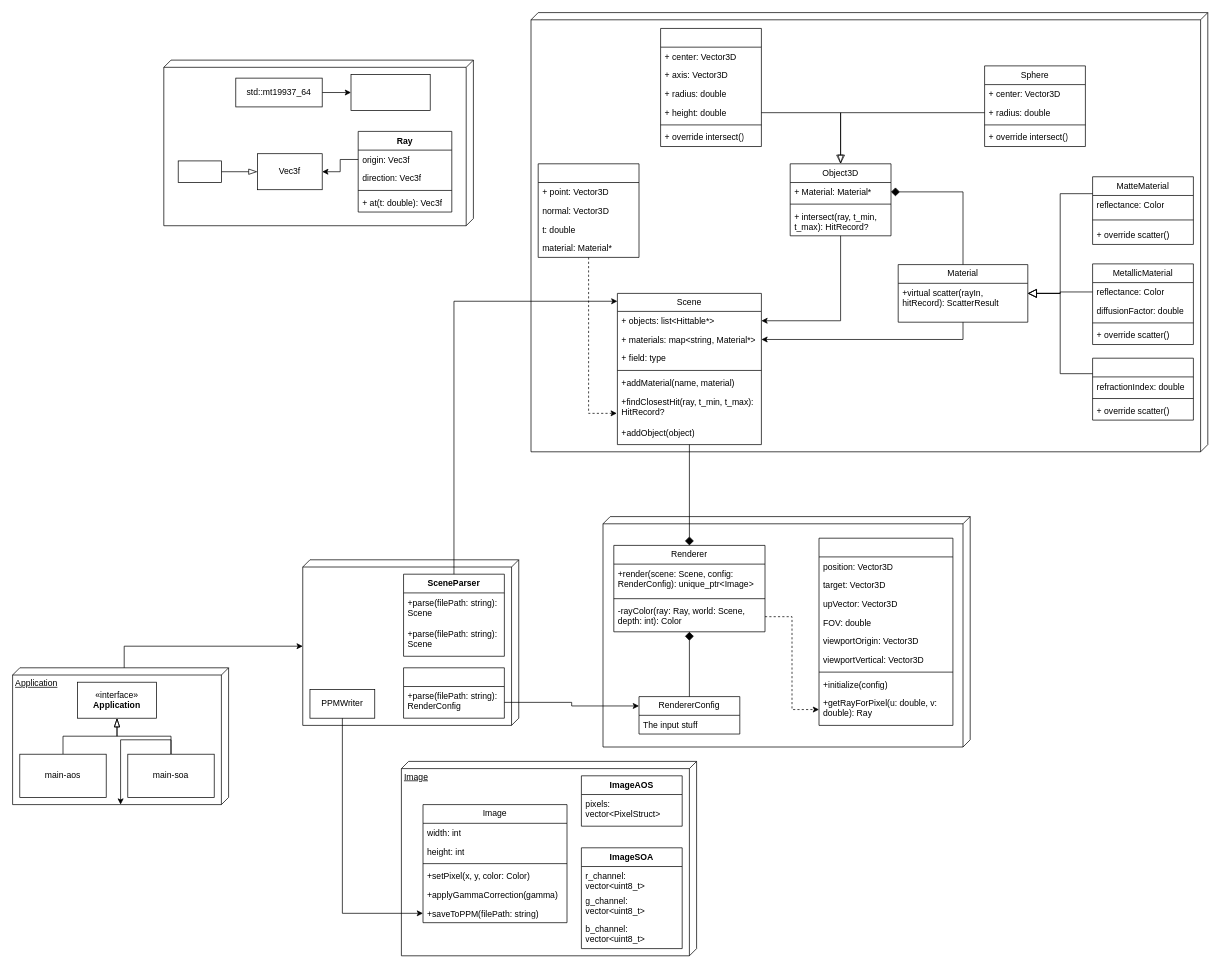
Some shapes in this 1220 by 968 pixel diagram are drawn without their labels. Here are the shapes that lost their labels. From the top down, the box of each, then its label:
(350, 74, 430, 111): «interface» RNG
(660, 28, 761, 147): Cylinder
(163, 59, 473, 226): Utilities
(177, 160, 221, 183): Color
(537, 163, 639, 257): Hit Record
(530, 12, 1208, 452): SceneModel
(1092, 357, 1193, 420): RefractiveMaterial
(302, 559, 519, 725): I/O
(602, 516, 970, 747): Rendering
(818, 537, 953, 725): Camera
(403, 667, 504, 718): ConfigParser
